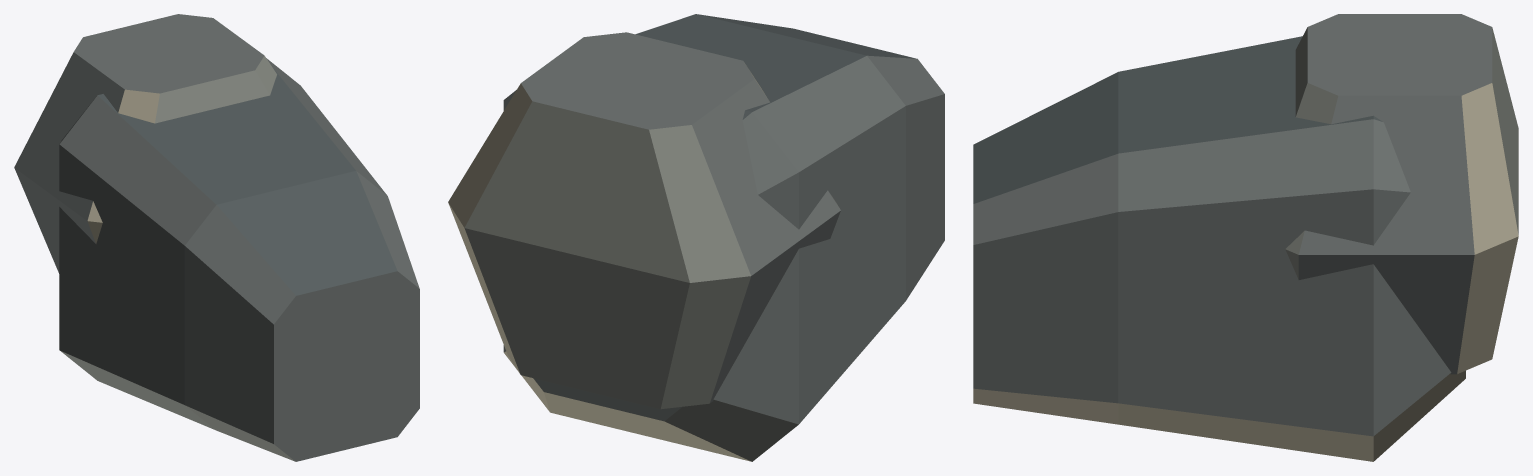
File: body.glb
3 views of the same model, side by side, from view 1: azimuth 30°, elevation 25°; view 2: azimuth 150°, elevation 25°; view 3: azimuth 270°, elevation 25° (orthographic). The views are drawn at different scales.
Parts seen in each view (by area): view 1: body; view 2: body; view 3: body.
Boxes of the visible parts, x1,y1,x2,y2 form: body: [14, 14, 419, 461]; body: [448, 14, 944, 461]; body: [973, 14, 1518, 461].
Bounding box in the file's own units: 0.78 × 0.9 × 1.24.
